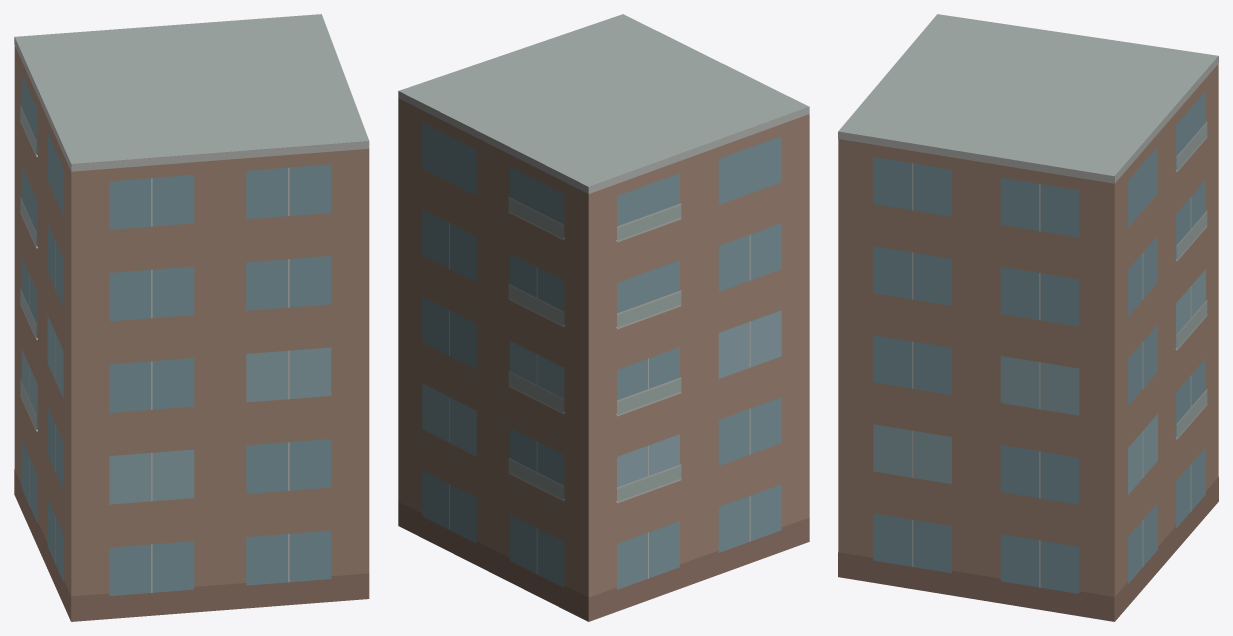
The model's file is survey-upis-32875235.glb.
The picture shows the model from 3 angles, left to right: view 1: azimuth 30°, elevation 25°; view 2: azimuth 150°, elevation 25°; view 3: azimuth 270°, elevation 25°; orthographic projection. The views are drawn at different scales.
Visible parts, largest first — view 1: survey-upis-32875235.tmp; view 2: survey-upis-32875235.tmp; view 3: survey-upis-32875235.tmp.
Boxes of the visible parts, x1,y1,x2,y2 form: survey-upis-32875235.tmp: (14, 14, 369, 621); survey-upis-32875235.tmp: (398, 14, 809, 621); survey-upis-32875235.tmp: (838, 14, 1218, 621).
Size of the model in its own units: 11.41 by 14.6 by 11.31.
